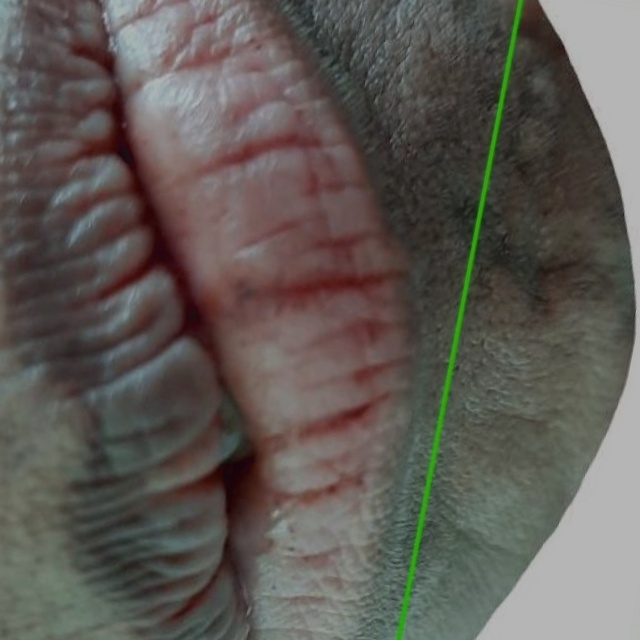Eczema: (398, 0, 639, 639)
